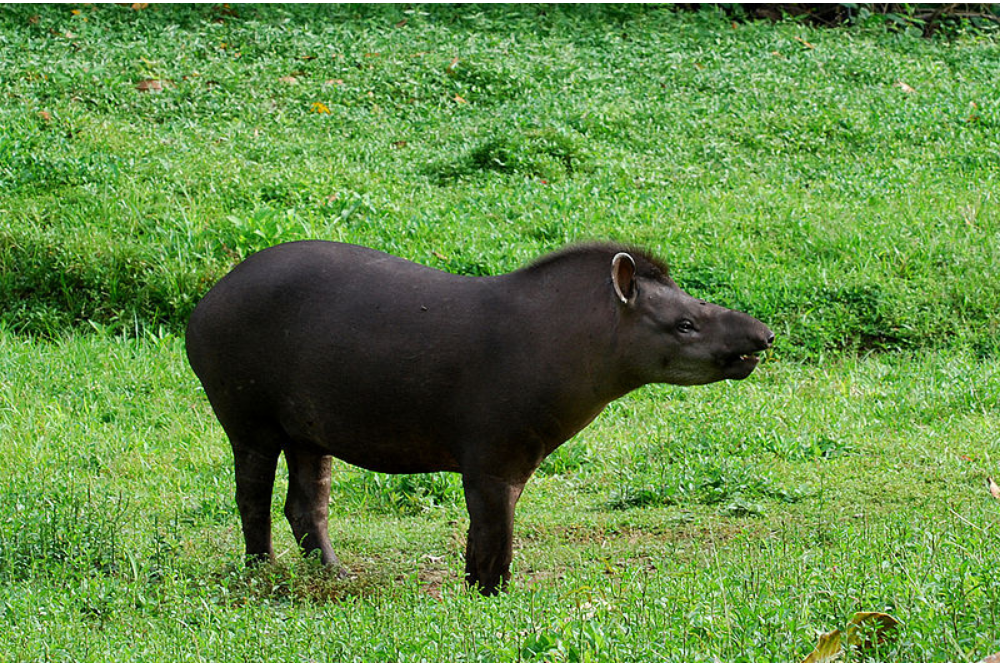Anta: (176, 224, 798, 603)
